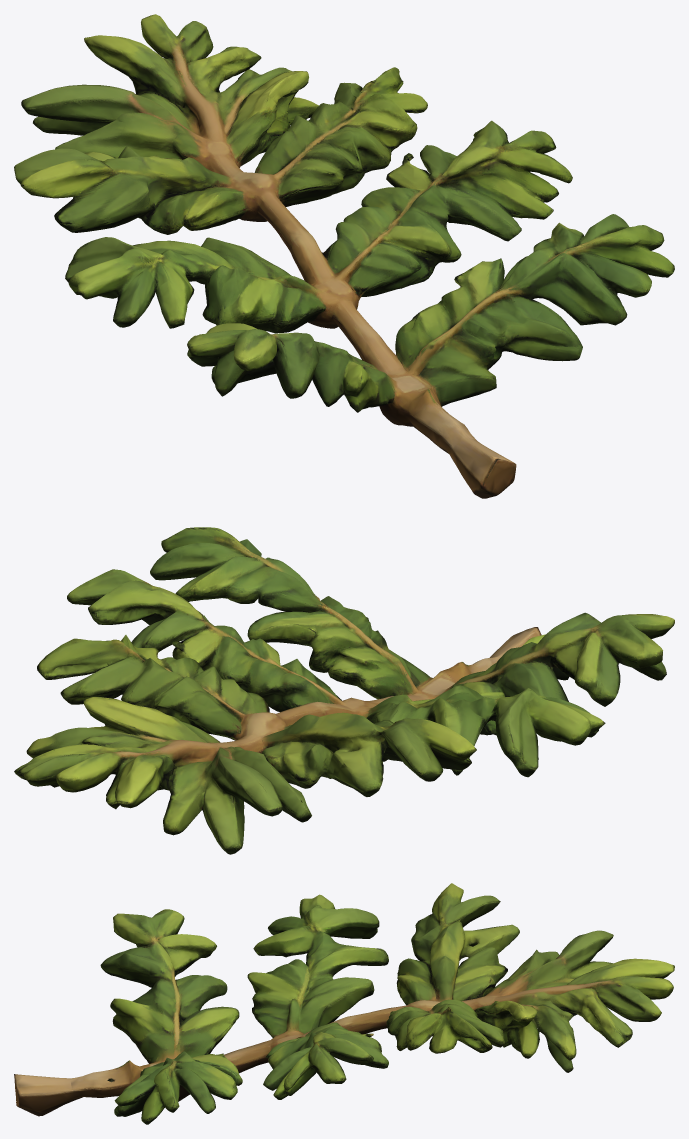
The picture shows the model from 3 angles, top to bottom: view 1: azimuth 30°, elevation 25°; view 2: azimuth 150°, elevation 25°; view 3: azimuth 270°, elevation 25°; orthographic projection. The views are drawn at different scales.
Visible parts, largest first — view 1: world; view 2: world; view 3: world.
Boxes of the visible parts, <box> form: world: <box>14,14,674,498</box>; world: <box>14,527,674,854</box>; world: <box>14,883,674,1124</box>.
Size of the model in its own units: 0.1588 by 0.0599 by 0.22.
Materials: 1 (1 with a texture image).
